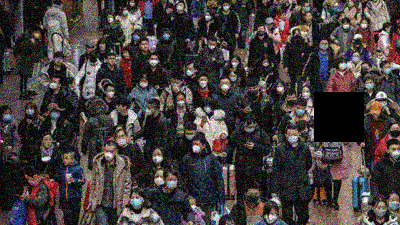with_mask: (264, 212, 278, 225), (130, 196, 143, 209), (247, 192, 260, 205), (154, 174, 166, 188), (104, 149, 116, 162), (167, 177, 178, 191), (152, 152, 164, 164), (287, 133, 299, 145), (192, 142, 203, 155), (51, 108, 61, 120), (117, 135, 127, 147), (176, 98, 187, 108), (139, 80, 150, 90), (184, 133, 197, 141), (25, 107, 35, 117), (49, 80, 59, 90), (296, 107, 306, 117), (365, 81, 375, 91), (186, 67, 195, 78), (391, 127, 400, 138), (392, 147, 400, 159), (3, 112, 12, 122), (140, 43, 150, 52), (171, 81, 181, 90), (199, 78, 208, 88), (245, 125, 255, 134), (221, 82, 230, 92), (287, 96, 296, 106), (302, 90, 311, 100), (300, 128, 309, 138), (378, 99, 388, 108), (149, 58, 158, 67), (352, 55, 361, 64), (107, 89, 115, 99), (146, 106, 154, 116), (248, 88, 258, 96), (384, 65, 392, 75), (204, 105, 212, 114), (277, 85, 285, 94), (321, 43, 329, 52), (361, 66, 369, 75), (372, 112, 381, 120), (190, 202, 197, 212), (27, 178, 35, 186), (229, 75, 237, 83), (209, 43, 217, 51), (177, 4, 185, 12), (355, 38, 363, 46), (34, 31, 41, 40), (89, 56, 98, 63), (340, 62, 347, 71), (108, 15, 115, 23), (133, 34, 140, 42), (163, 33, 171, 40), (99, 43, 106, 51), (232, 60, 239, 68), (205, 14, 212, 22), (258, 28, 265, 36), (262, 61, 270, 68), (72, 82, 77, 92), (265, 1, 272, 8), (343, 23, 350, 30), (361, 22, 368, 29), (123, 8, 129, 16), (130, 1, 136, 8), (223, 4, 229, 11), (281, 14, 287, 21), (341, 15, 347, 21), (292, 1, 297, 8), (306, 5, 311, 12), (379, 54, 384, 60)
without_mask: (43, 137, 53, 148), (107, 57, 117, 67), (55, 57, 64, 66), (63, 156, 71, 166), (116, 105, 124, 114), (85, 46, 93, 55), (122, 52, 130, 60), (267, 23, 274, 29), (306, 15, 312, 22), (295, 33, 301, 40), (348, 1, 354, 7), (166, 8, 171, 15)
